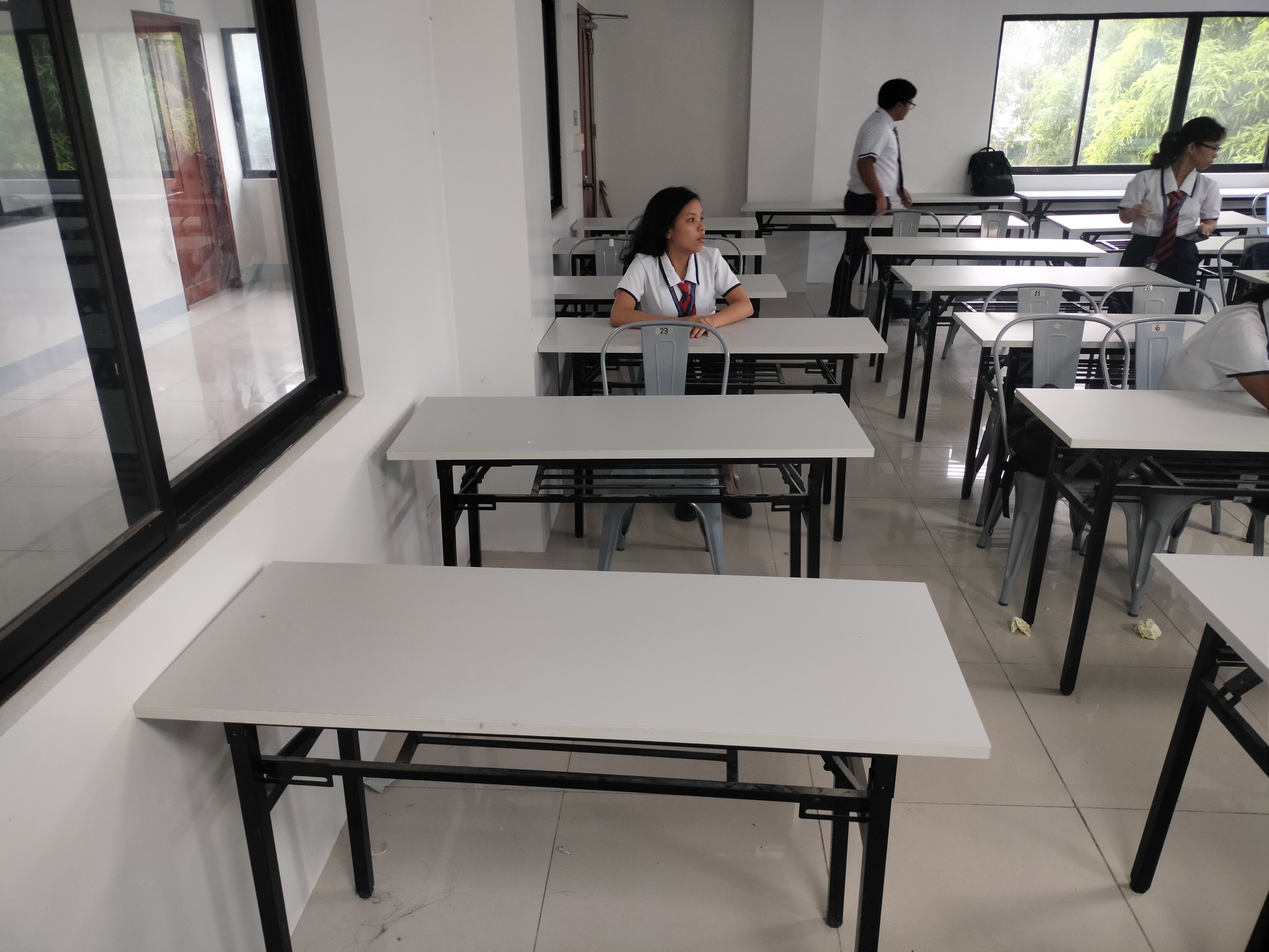with-student: (532, 180, 889, 401)
